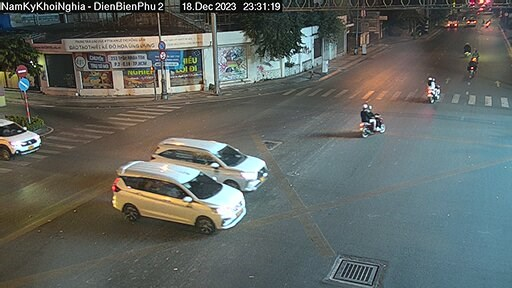car: (103, 152, 258, 232), (144, 129, 277, 196), (2, 110, 48, 166)
motorbike: (351, 101, 392, 138), (423, 71, 445, 104)
